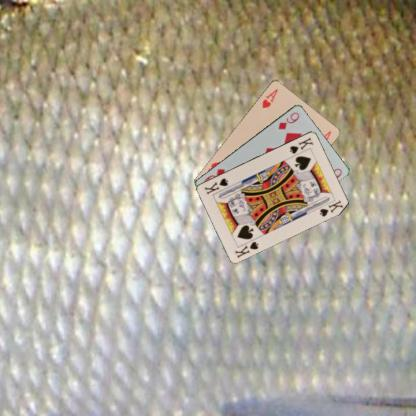9d: (276, 109, 300, 131)
Ah: (259, 86, 279, 109)
Ks: (287, 134, 314, 155), (232, 238, 260, 258)
